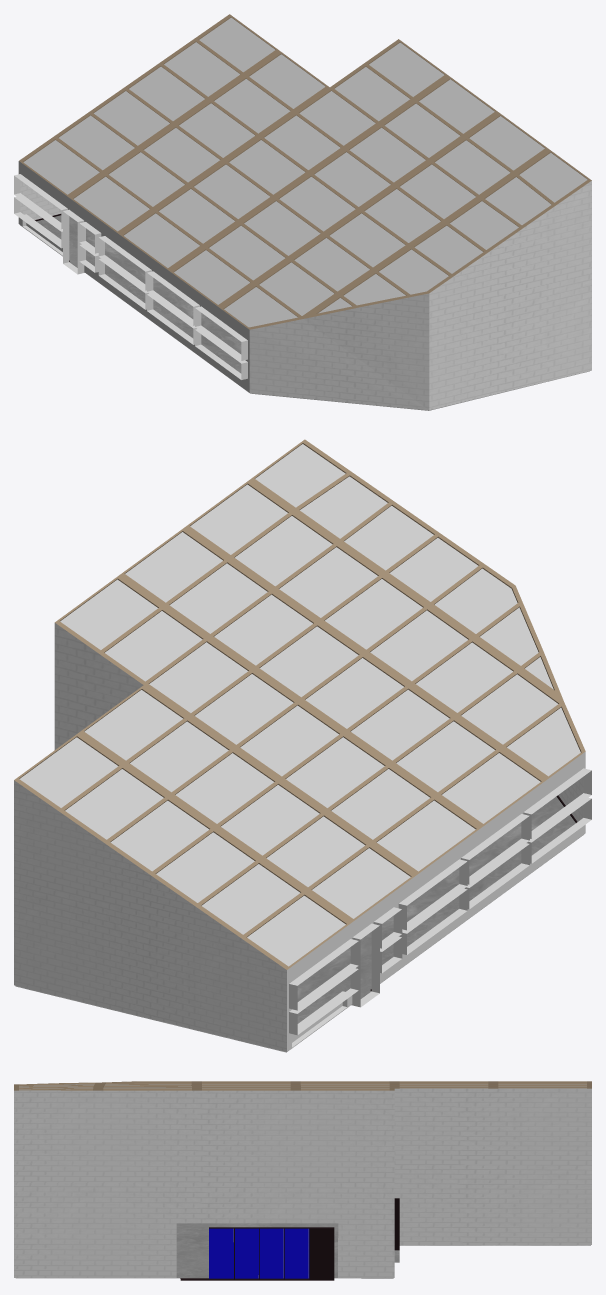
Rendered from clasroom.fbx.
3 views of the same model, one above another, from view 1: azimuth 30°, elevation 25°; view 2: azimuth 150°, elevation 25°; view 3: azimuth 270°, elevation 25° (orthographic). The views are drawn at different scales.
Parts seen in each view (by area): view 1: classroom; view 2: classroom; view 3: classroom.
Boxes of the visible parts, x1,y1,x2,y2 form: classroom: (14,14,591,410); classroom: (14,439,591,1052); classroom: (14,1081,591,1280).
Size of the model in its own units: 1432 by 903 by 2513.
